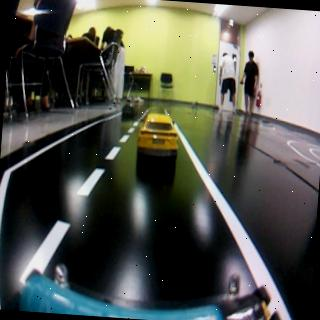car: (135, 110, 185, 164)
